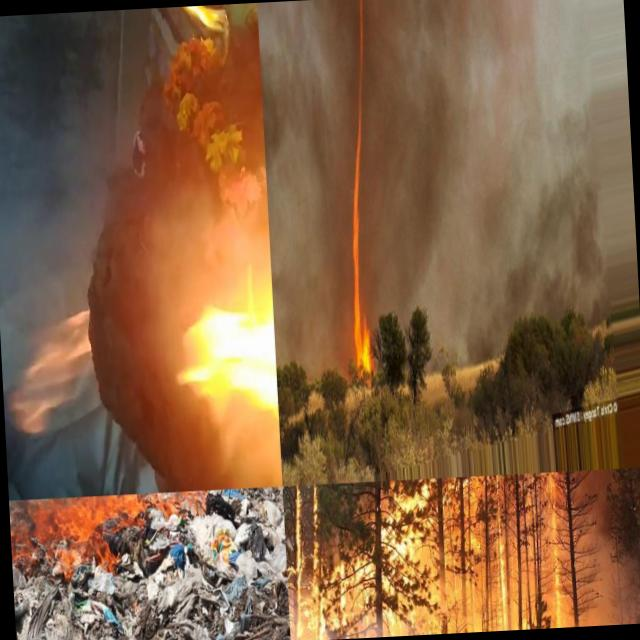fire: (282, 471, 589, 640), (9, 494, 152, 578), (0, 81, 31, 261), (345, 259, 371, 371), (182, 404, 214, 492), (350, 128, 366, 199), (352, 56, 367, 128), (348, 200, 364, 258), (354, 0, 370, 57), (0, 15, 25, 45)
smoke: (368, 0, 607, 306), (21, 10, 136, 352), (257, 0, 350, 367), (580, 467, 640, 626), (44, 388, 122, 498), (429, 301, 504, 362), (332, 0, 361, 127), (363, 198, 385, 314)
